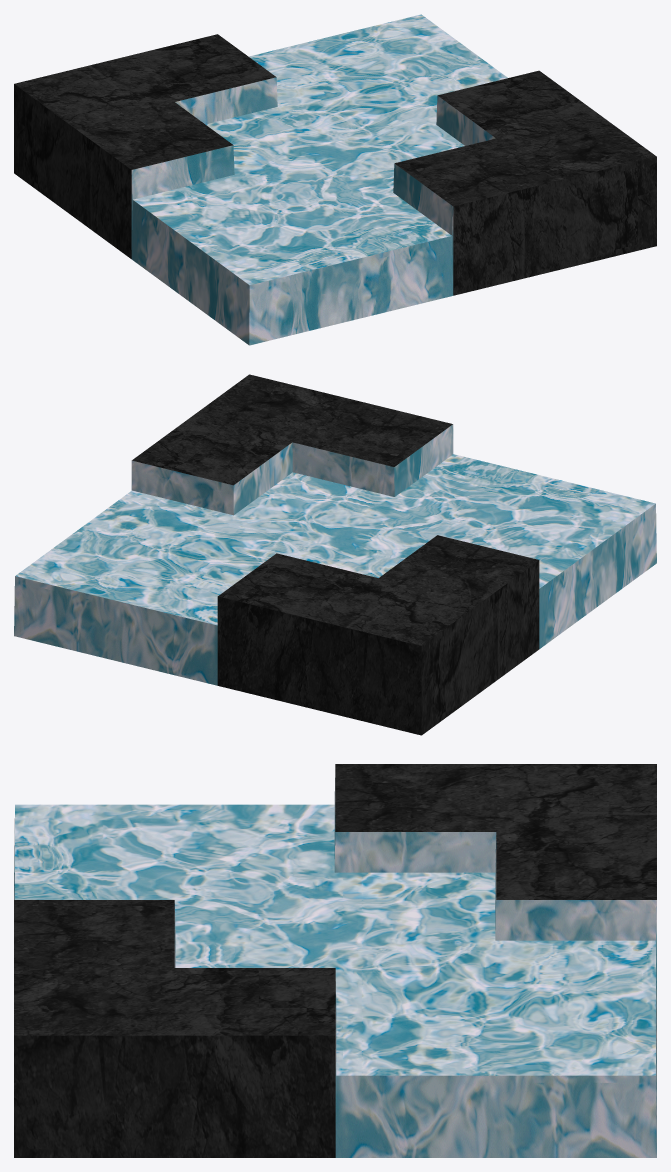
File: AllyPath32.fbx
3 views of the same model, one above another, from view 1: azimuth 30°, elevation 25°; view 2: azimuth 150°, elevation 25°; view 3: azimuth 270°, elevation 25° (orthographic). The views are drawn at different scales.
Visible parts, largest first — view 1: AllyPath32; view 2: AllyPath32; view 3: AllyPath32.
Part boxes in pixels (x1,y1,x2,y2): AllyPath32: [14, 14, 656, 345]; AllyPath32: [14, 374, 656, 735]; AllyPath32: [14, 764, 656, 1157].
Size of the model in its own units: 100 by 20.97 by 100.
Materials: 2 (2 with a texture image).
